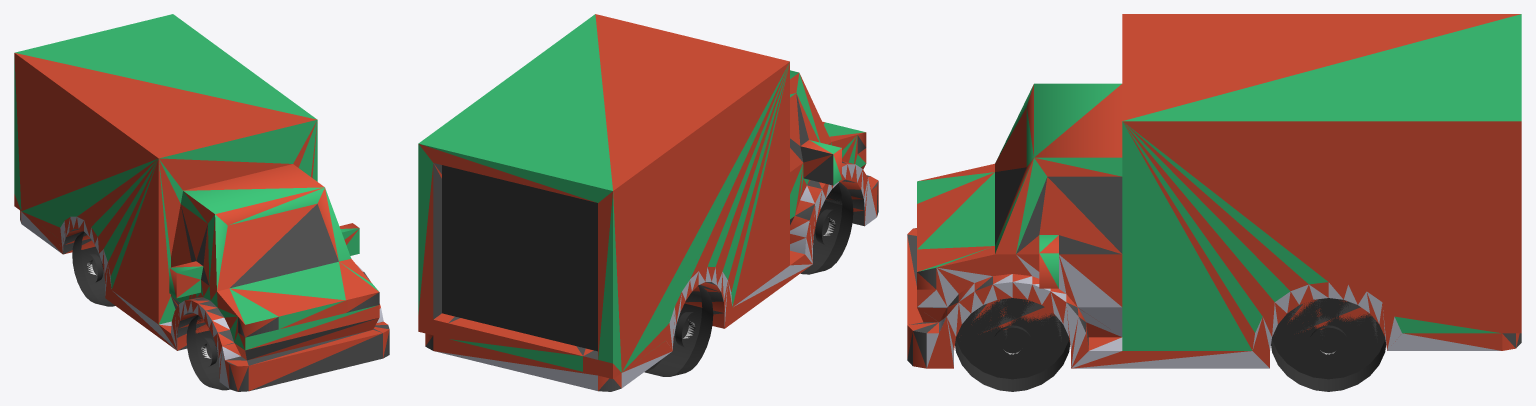
The model's file is frigate.glb.
The picture shows the model from 3 angles, left to right: view 1: azimuth 30°, elevation 25°; view 2: azimuth 150°, elevation 25°; view 3: azimuth 270°, elevation 25°; orthographic projection. The views are drawn at different scales.
Size of the model in its own units: 15 by 16 by 31.5.
